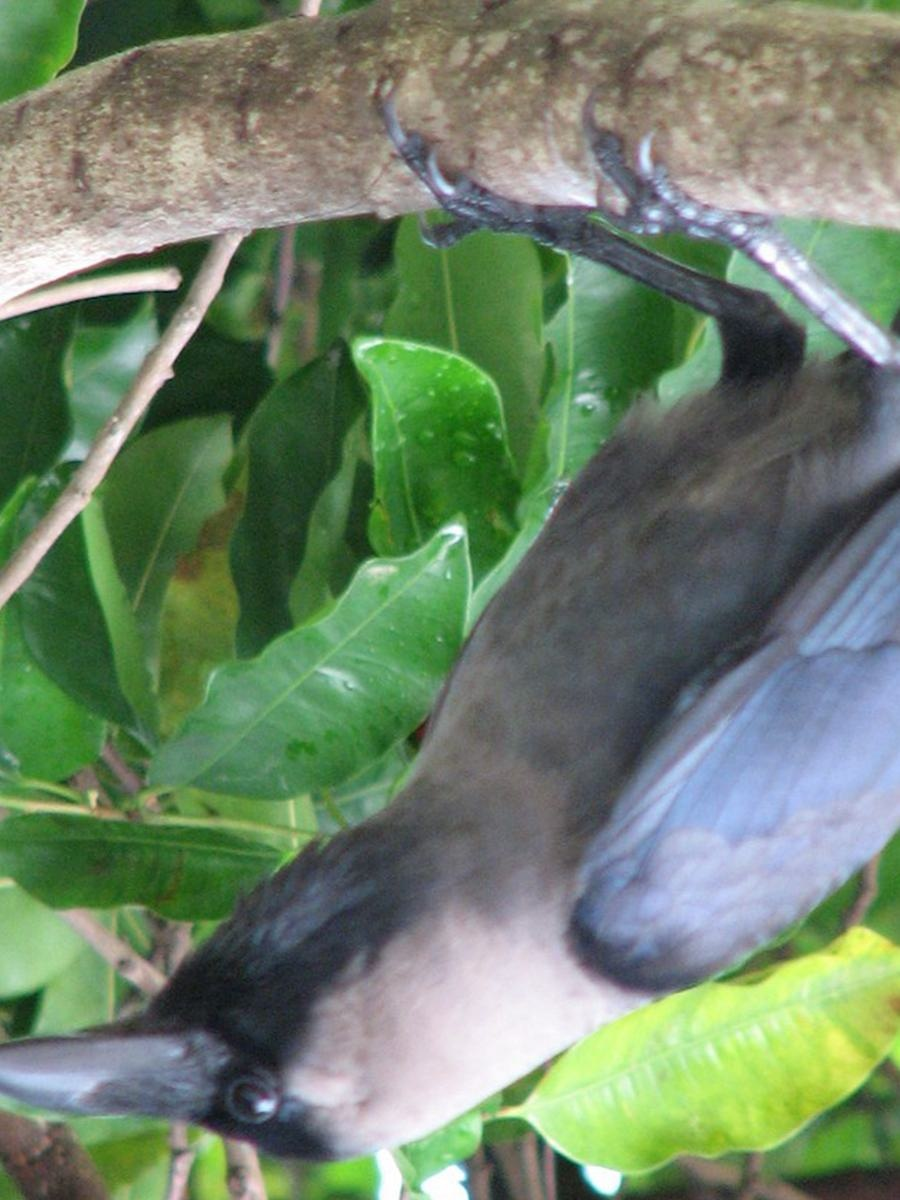crow: (5, 147, 900, 1149)
